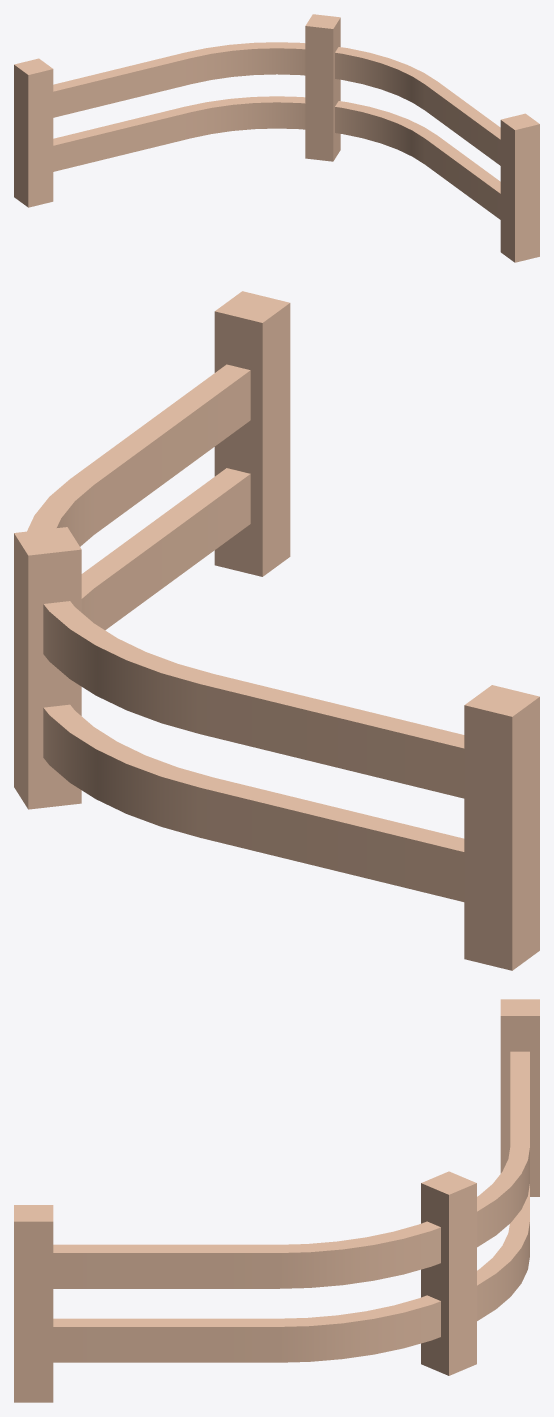
3 renders of one model, top to bottom at view 1: azimuth 30°, elevation 25°; view 2: azimuth 150°, elevation 25°; view 3: azimuth 270°, elevation 25°, orthographic. The views are drawn at different scales.
Parts seen in each view (by area): view 1: fenceCurved; view 2: fenceCurved; view 3: fenceCurved.
Boxes of the visible parts, <box> form: fenceCurved: <box>14,14,539,262</box>; fenceCurved: <box>14,291,539,970</box>; fenceCurved: <box>14,999,539,1402</box>.
Bounding box in the file's own units: 1 × 0.38 × 1.
